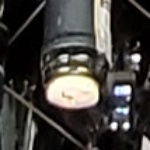bottle: (28, 36, 130, 128)
